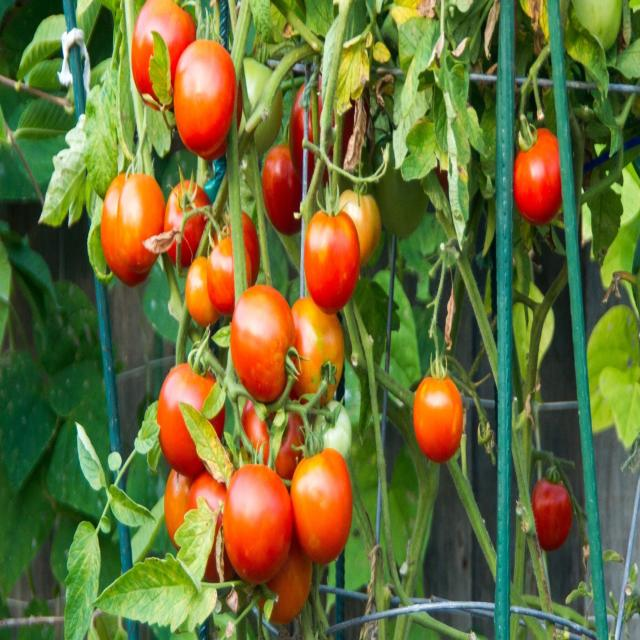Tomato: (222, 464, 292, 584), (230, 284, 296, 402), (174, 40, 238, 159), (101, 173, 165, 287), (290, 449, 352, 564), (158, 362, 215, 478), (131, 0, 196, 98), (305, 211, 360, 313), (514, 129, 562, 224), (531, 478, 572, 551), (211, 409, 225, 438)
